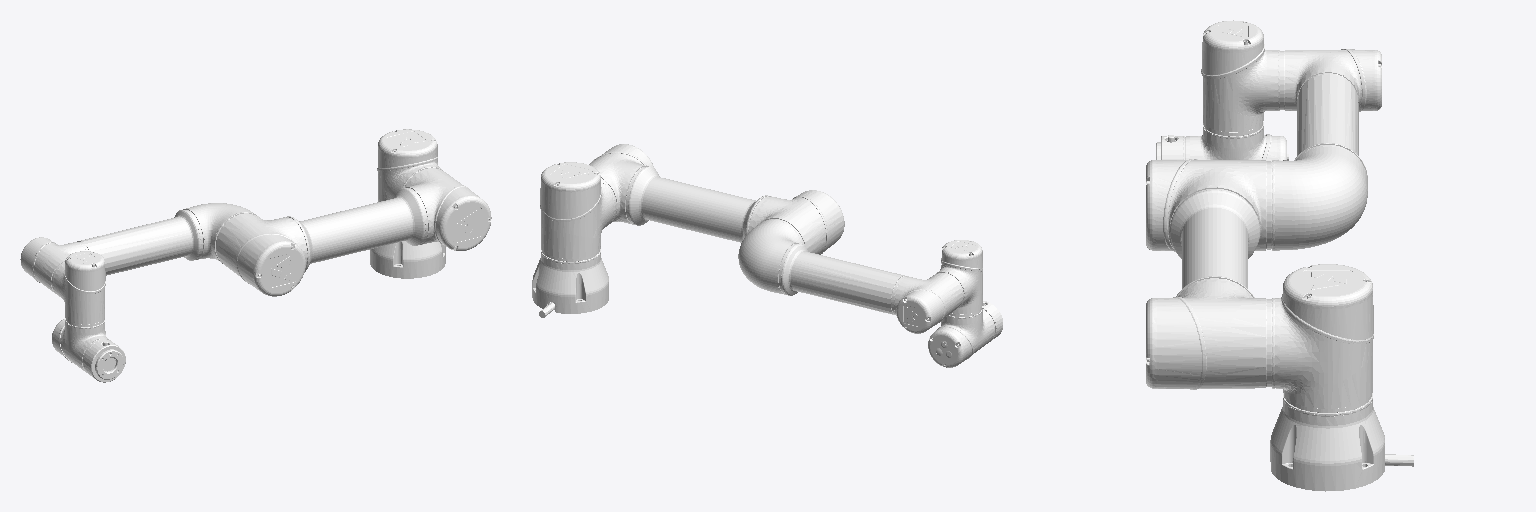
robot.urdf — gbt_description:
<?xml version="1.0"?>
<!-- This URDF was automatically created by SolidWorks to URDF Exporter! Originally created by [author] ([email redacted]) 
     Commit Version: 1.6.0-1-g15f4949  Build Version: 1.6.7594.29634
     For more information, please see http://wiki.ros.org/sw_urdf_exporter -->
<robot
  name="gbt_description" xmlns:xacro="http://www.ros.org/wiki/xacro">
  <link
    name="base_link">
    <inertial>
      <origin
        xyz="5.3346375504587E-06 -0.00059214591393983 0.0510653572680672"
        rpy="0 0 0" />
      <mass
        value="1.11799442797851" />
      <inertia
        ixx="0.00207412624478233"
        ixy="1.25613398112179E-06"
        ixz="1.65547737935594E-07"
        iyy="0.00194454164076036"
        iyz="-2.30093266885301E-05"
        izz="0.00276348351172803" />
    </inertial>
    <visual>
      <origin
        xyz="0 0 0"
        rpy="0 0 0" />
      <geometry>
        <mesh
          filename="package://gbt_description/meshes/visual/base_link.STL" />
      </geometry>
      <material
        name="">
        <color
          rgba="1 1 1 1" />
      </material>
    </visual>
    <collision>
      <origin
        xyz="0 0 0"
        rpy="0 0 0" />
      <geometry>
        <mesh
          filename="package://gbt_description/meshes/collision/base_link.STL" />
      </geometry>
    </collision>
  </link>
  <link
    name="link1">
    <inertial>
      <origin
        xyz="0.00377919075056667 -2.51399014306912E-06 0.0869301328261824"
        rpy="0 0 0" />
      <mass
        value="2.04479035782127" />
      <inertia
        ixx="0.00390129613020746"
        ixy="5.43990541844285E-08"
        ixz="-0.0004980592642129"
        iyy="0.0039677211509232"
        iyz="5.3399796374319E-08"
        izz="0.00382371830243895" />
    </inertial>
    <visual>
      <origin
        xyz="0 0 0"
        rpy="0 0 0" />
      <geometry>
        <mesh
          filename="package://gbt_description/meshes/visual/link1.STL" />
      </geometry>
      <material
        name="">
        <color
          rgba="1 1 1 1" />
      </material>
    </visual>
    <collision>
      <origin
        xyz="0 0 0"
        rpy="0 0 0" />
      <geometry>
        <mesh
          filename="package://gbt_description/meshes/collision/link1.STL" />
      </geometry>
    </collision>
  </link>
  <joint
    name="joint1"
    type="revolute">
    <origin
      xyz="0 0 0.094"
      rpy="0 0 -1.570797" />
    <parent
      link="base_link" />
    <child
      link="link1" />
    <axis
      xyz="0 0 1" />
    <limit lower="-6.283185307179" upper="6.283185307179" velocity="3.14159" effort="10.0"/>
  </joint>
  <link
    name="link2">
    <inertial>
      <origin
        xyz="1.50618669053815E-07 0.212605780030747 0.0859526157746499"
        rpy="0 0 0" />
      <mass
        value="6.10875492875952" />
      <inertia
        ixx="0.0267957710935857"
        ixy="-1.34564598586249E-07"
        ixz="6.02548747177494E-08"
        iyy="0.0101014371917945"
        iyz="1.33335511533887E-06"
        izz="0.026506282255423" />
    </inertial>
    <visual>
      <origin
        xyz="0 0 0"
        rpy="0 0 0" />
      <geometry>
        <mesh
          filename="package://gbt_description/meshes/visual/link2.STL" />
      </geometry>
      <material
        name="">
        <color
          rgba="1 1 1 1" />
      </material>
    </visual>
    <collision>
      <origin
        xyz="0 0 0"
        rpy="0 0 0" />
      <geometry>
        <mesh
          filename="package://gbt_description/meshes/collision/link2.STL" />
      </geometry>
    </collision>
  </link>
  <joint
    name="joint2"
    type="revolute">
    <origin
      xyz="0.0630000000000007 0 0.0840208674128905"
      rpy="1.57079632679489 -1.5707963267949 1.5707963267949" />
    <parent
      link="link1" />
    <child
      link="link2" />
    <axis
      xyz="0 0 -1" />
    <limit lower="-1.483529864195" upper="4.625122517784" velocity="3.14159" effort="10.0"/>
  </joint>
  <link
    name="link3">
    <inertial>
      <origin
        xyz="5.87080347610989E-07 0.179889890579946 0.0641958228304825"
        rpy="0 0 0" />
      <mass
        value="3.27878276509859" />
      <inertia
        ixx="0.0125366709718065"
        ixy="5.81895610935822E-08"
        ixz="-3.97959054903149E-08"
        iyy="0.00380755431016305"
        iyz="-0.000145643356590976"
        izz="0.0122653626575394" />
    </inertial>
    <visual>
      <origin
        xyz="0 0 0"
        rpy="0 0 0" />
      <geometry>
        <mesh
          filename="package://gbt_description/meshes/visual/link3.STL" />
      </geometry>
      <material
        name="">
        <color
          rgba="1 1 1 1" />
      </material>
    </visual>
    <collision>
      <origin
        xyz="0 0 0"
        rpy="0 0 0" />
      <geometry>
        <mesh
          filename="package://gbt_description/meshes/collision/link3.STL" />
      </geometry>
    </collision>
  </link>
  <joint
    name="joint3"
    type="revolute">
    <origin
      xyz="0 0.42497913258711 0.00599999999999846"
      rpy="-3.14159265358979 0 3.14159265358979" />
    <parent
      link="link2" />
    <child
      link="link3" />
    <axis
      xyz="0 0 1" />
    <limit lower="-2.80998009571" upper="2.80998009571" velocity="3.14159" effort="10.0"/>
  </joint>
  <link
    name="link4">
    <inertial>
      <origin
        xyz="2.51890573646324E-06 0.000114371763710763 0.0530633105310244"
        rpy="0 0 0" />
      <mass
        value="0.804364163350571" />
      <inertia
        ixx="0.000935080961535658"
        ixy="3.62404012124143E-08"
        ixz="6.43616167033178E-08"
        iyy="0.000747593929769134"
        iyz="-0.000128082798887313"
        izz="0.000860162773869198" />
    </inertial>
    <visual>
      <origin
        xyz="0 0 0"
        rpy="0 0 0" />
      <geometry>
        <mesh
          filename="package://gbt_description/meshes/visual/link4.STL" />
      </geometry>
      <material
        name="">
        <color
          rgba="1 1 1 1" />
      </material>
    </visual>
    <collision>
      <origin
        xyz="0 0 0"
        rpy="0 0 0" />
      <geometry>
        <mesh
          filename="package://gbt_description/meshes/collision/link4.STL" />
      </geometry>
    </collision>
  </link>
  <joint
    name="joint4"
    type="revolute">
    <origin
      xyz="0 0.385 0.00370000000000101"
      rpy="3.14159265358979 0 1.5707963267949" />
    <parent
      link="link3" />
    <child
      link="link4" />
    <axis
      xyz="0 0 -1" />
    <limit lower="-1.483529864195" upper="4.625122517784" velocity="3.14159" effort="10.0"/>
  </joint>
  <link
    name="link5">
    <inertial>
      <origin
        xyz="0.000314682641719494 3.36716779089097E-06 -0.0530496283207993"
        rpy="0 0 0" />
      <mass
        value="0.802210955732477" />
      <inertia
        ixx="0.000745372124504208"
        ixy="3.89144466059342E-08"
        ixz="0.000128783534943426"
        iyy="0.000928034941984505"
        iyz="-3.72342217212453E-08"
        izz="0.000853283143640381" />
    </inertial>
    <visual>
      <origin
        xyz="0 0 0"
        rpy="0 0 0" />
      <geometry>
        <mesh
          filename="package://gbt_description/meshes/visual/link5.STL" />
      </geometry>
      <material
        name="">
        <color
          rgba="1 1 1 1" />
      </material>
    </visual>
    <collision>
      <origin
        xyz="0 0 0"
        rpy="0 0 0" />
      <geometry>
        <mesh
          filename="package://gbt_description/meshes/collision/link5.STL" />
      </geometry>
    </collision>
  </link>
  <joint
    name="joint5"
    type="revolute">
    <origin
      xyz="0 0.065299999999999 0.0579999999999997"
      rpy="1.5707963267949 -1.5707963267949 0" />
    <parent
      link="link4" />
    <child
      link="link5" />
    <axis
      xyz="0 0 -1" />
    <limit lower="-6.283185307179" upper="6.283185307179" velocity="3.14159" effort="10.0"/>
  </joint>
  <link
    name="link6">
    <inertial>
      <origin
        xyz="-4.55313953111396E-09 0.000174298782031901 0.0184965902111415"
        rpy="0 0 0" />
      <mass
        value="0.129160189065118" />
      <inertia
        ixx="5.88476928477696E-05"
        ixy="-1.3241461253261E-13"
        ixz="-1.07663359102389E-12"
        iyy="5.9570715686884E-05"
        iyz="-8.25364157349739E-09"
        izz="0.000102277220029045" />
    </inertial>
    <visual>
      <origin
        xyz="0 0 0"
        rpy="0 0 0" />
      <geometry>
        <mesh
          filename="package://gbt_description/meshes/visual/link6.STL" />
      </geometry>
      <material
        name="">
        <color
          rgba="1 1 1 1" />
      </material>
    </visual>
    <collision>
      <origin
        xyz="0 0 0"
        rpy="0 0 0" />
      <geometry>
        <mesh
          filename="package://gbt_description/meshes/collision/link6.STL" />
      </geometry>
    </collision>
  </link>
  <joint
    name="joint6"
    type="revolute">
    <origin
      xyz="0.0652999999999996 0 -0.0580000000000009"
      rpy="-1.5707963267949 0 -1.5707963267949" />
    <parent
      link="link5" />
    <child
      link="link6" />
    <axis
      xyz="0 0 1" />
    <limit lower="-6.283185307179" upper="6.283185307179" velocity="3.14159" effort="10.0"/>
  </joint>
</robot>

--- What the picture shows (computed from the rendered views, not written in the file) ---
The picture shows the robot from 3 angles, left to right: view 1: azimuth 30°, elevation 25°; view 2: azimuth 150°, elevation 25°; view 3: azimuth 270°, elevation 25°; orthographic projection.
Model gbt_description with 7 links and 6 joints (6 revolute), rooted at base_link, posed every joint at zero.
Visible links, largest first — view 1: link2, link3, link4, link1, base_link, link5, link6; view 2: link2, link3, link1, base_link, link5, link4; view 3: link2, link3, link1, base_link, link4, link5, link6.
Link boxes in pixels (bbox=[...]): link2: bbox=[214, 167, 491, 296]; link3: bbox=[20, 203, 253, 293]; link4: bbox=[53, 251, 105, 328]; link1: bbox=[377, 129, 440, 201]; base_link: bbox=[370, 241, 445, 278]; link5: bbox=[52, 319, 110, 372]; link6: bbox=[84, 340, 125, 382]; link2: bbox=[589, 144, 844, 254]; link3: bbox=[738, 220, 964, 333]; link1: bbox=[540, 162, 614, 263]; base_link: bbox=[532, 254, 608, 317]; link5: bbox=[928, 308, 996, 367]; link4: bbox=[937, 240, 982, 318]; link2: bbox=[1146, 159, 1274, 389]; link3: bbox=[1275, 49, 1381, 250]; link1: bbox=[1275, 264, 1373, 416]; base_link: bbox=[1270, 401, 1413, 491]; link4: bbox=[1201, 20, 1277, 138]; link5: bbox=[1183, 128, 1288, 161]; link6: bbox=[1156, 135, 1182, 159].
Size in the robot's own frame: 0.9265 by 0.3496 by 0.2682 metres.
7 mesh visuals loaded from 7 distinct referenced files (7 binary STL).